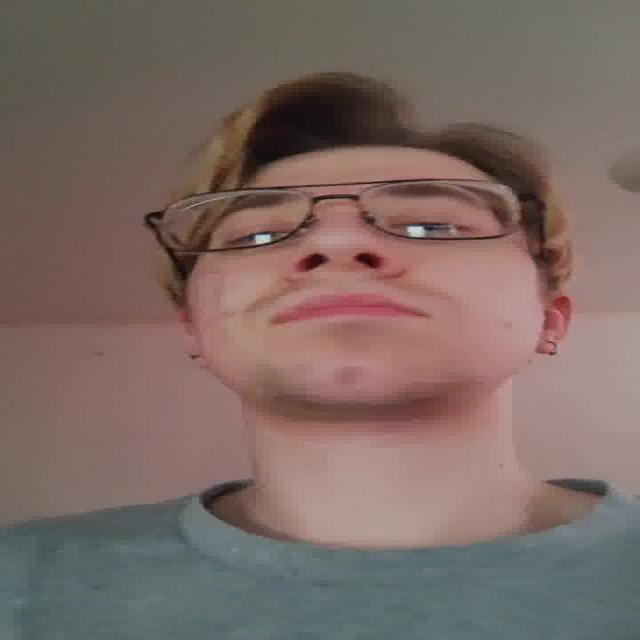earlobe: (534, 295, 575, 355)
